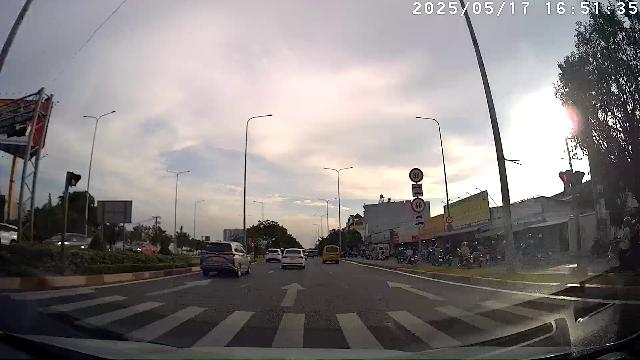127-toc-do-toi-da-60: (411, 198, 426, 213)
127-toc-do-toi-da-80: (409, 168, 424, 183)
